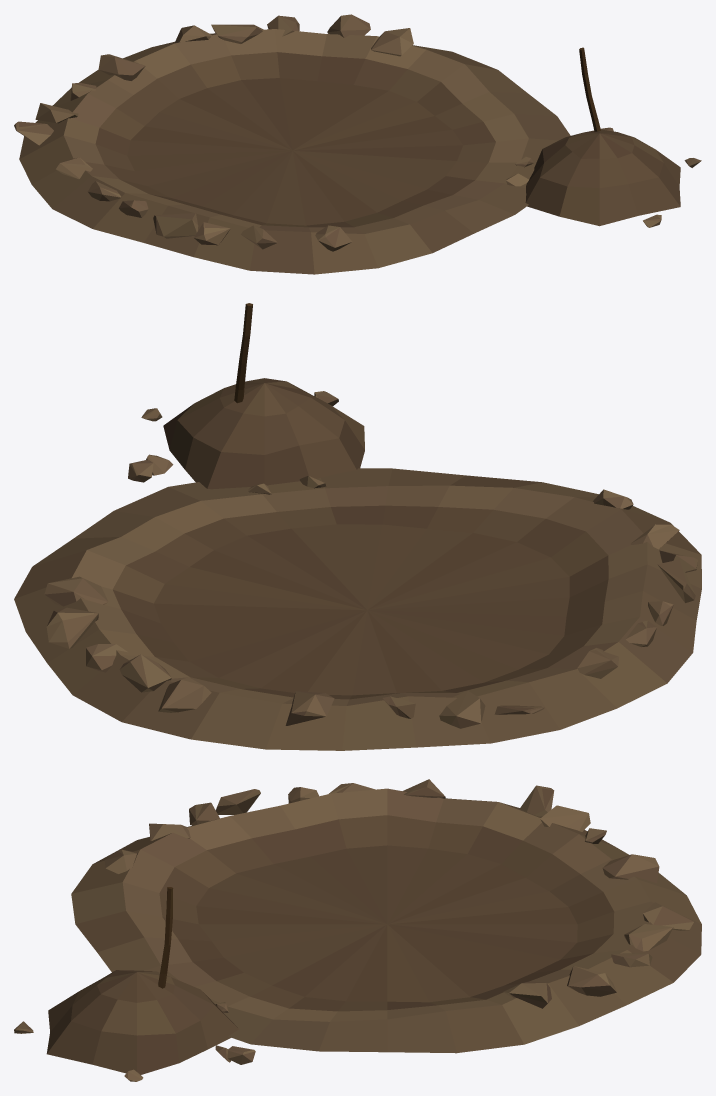
Rendered from waste_pit_1_scavo.glb.
3 views of the same model, one above another, from view 1: azimuth 30°, elevation 25°; view 2: azimuth 150°, elevation 25°; view 3: azimuth 270°, elevation 25° (orthographic). The views are drawn at different scales.
Visible parts, largest first — view 1: waste_pit_1_scavo; view 2: waste_pit_1_scavo; view 3: waste_pit_1_scavo.
Boxes of the visible parts, <box> form: waste_pit_1_scavo: <box>14,14,701,274</box>; waste_pit_1_scavo: <box>14,303,701,750</box>; waste_pit_1_scavo: <box>14,779,701,1081</box>.
Bounding box in the file's own units: 9.31 × 2.17 × 9.34.
